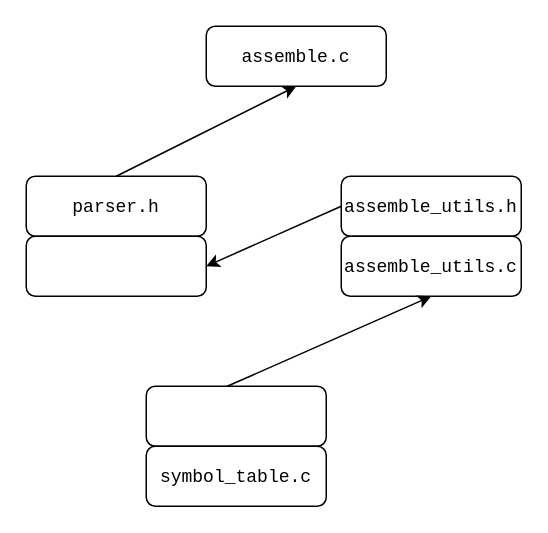
Image size: 548x533. Some labels were removed from this diagram. The shapes that lost their labels are listed below. From the top down, each one's centre as x and y in pixels, then its label:
point (115, 265): parser.c
point (235, 415): symbol_table.h
